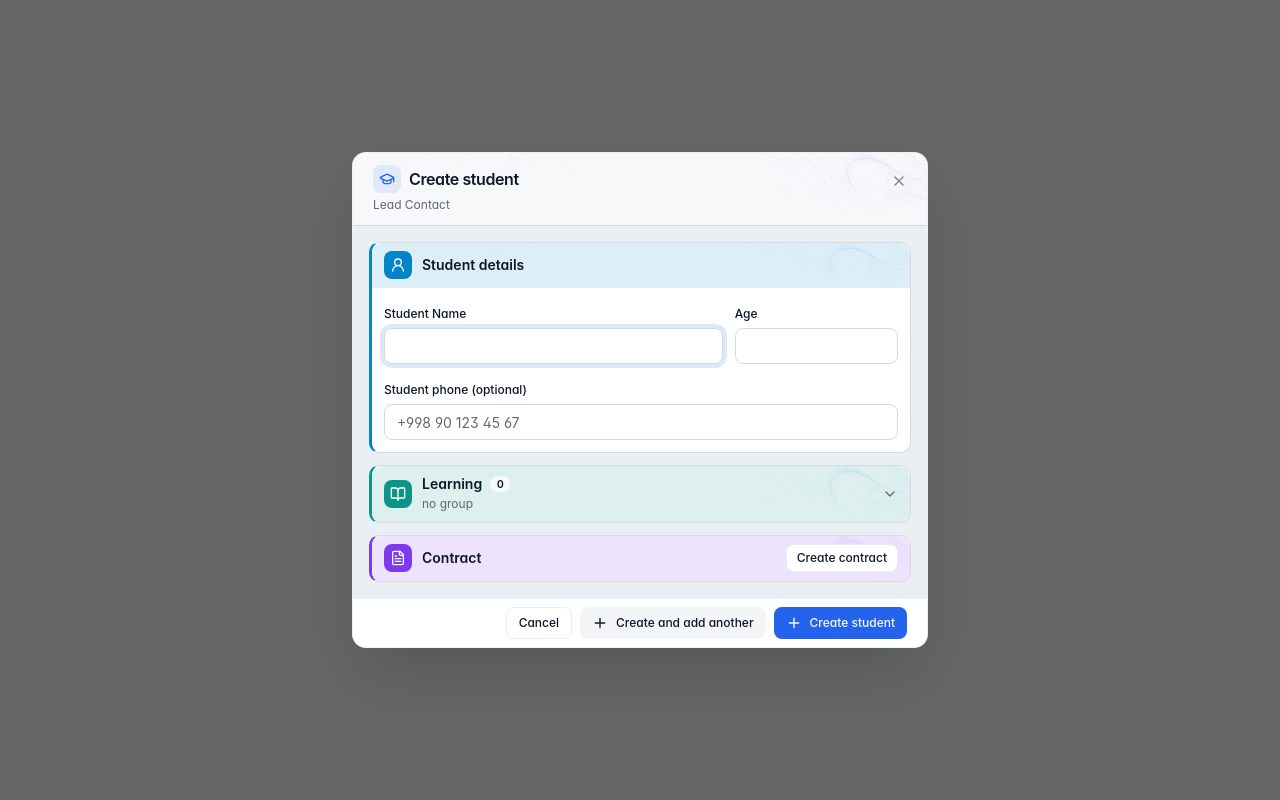
Test case: Lead conversion learner and portal access choices › reveals and focuses an invalid payment in a folded enrollment section
Step 1. Type "Learner" into the field labelled "Student Name" → (553, 346), box [384,328,723,364]
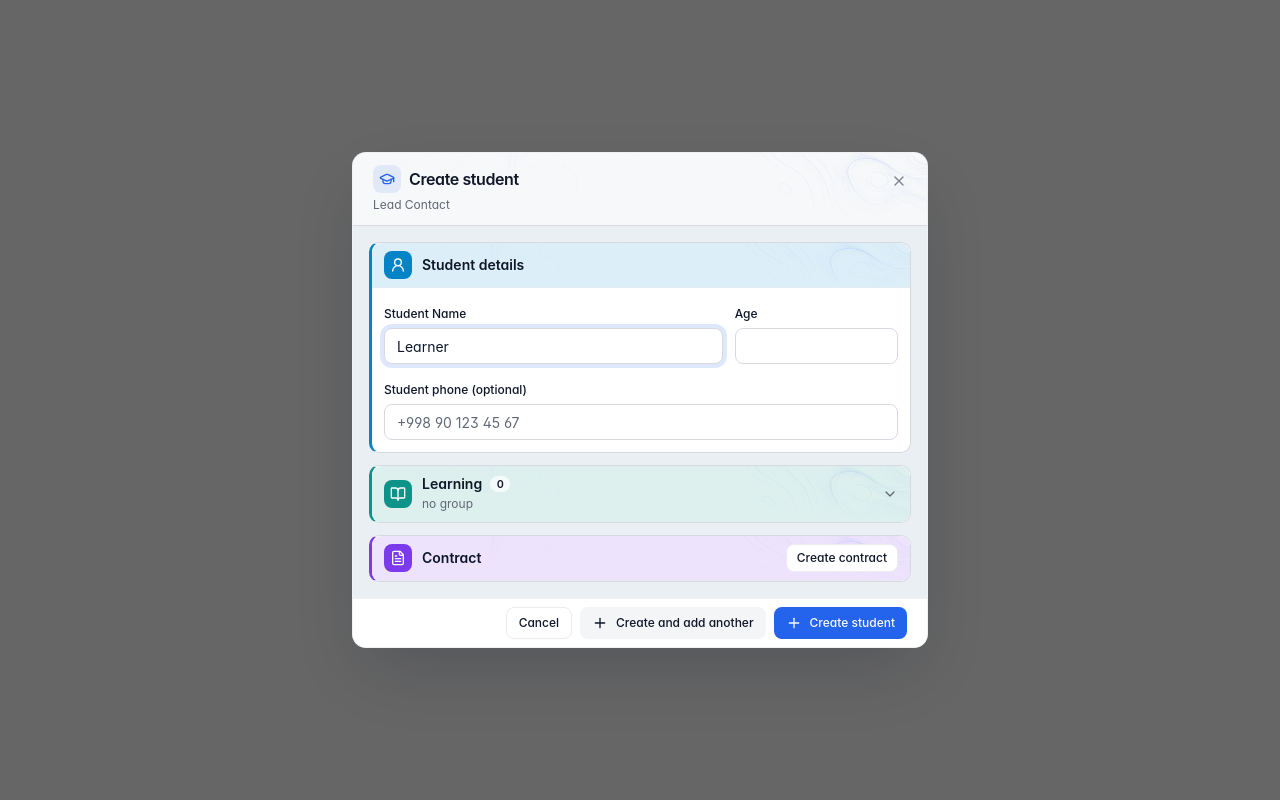
Step 2. Click the button "Learning 0 no group" → (452, 484), box [372,466,910,522]
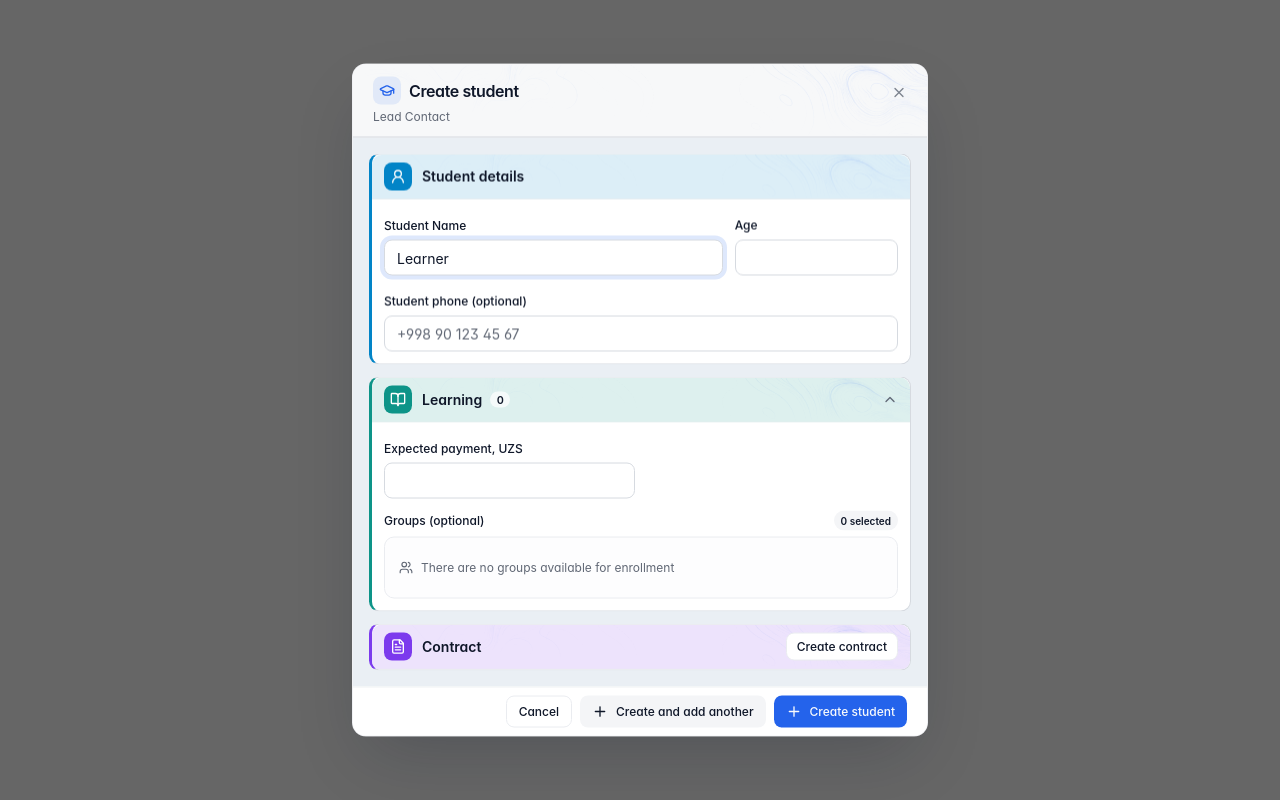
Step 3. Type "999999999999" into the field labelled "Expected payment, UZS" → (510, 480), box [384,462,635,498]
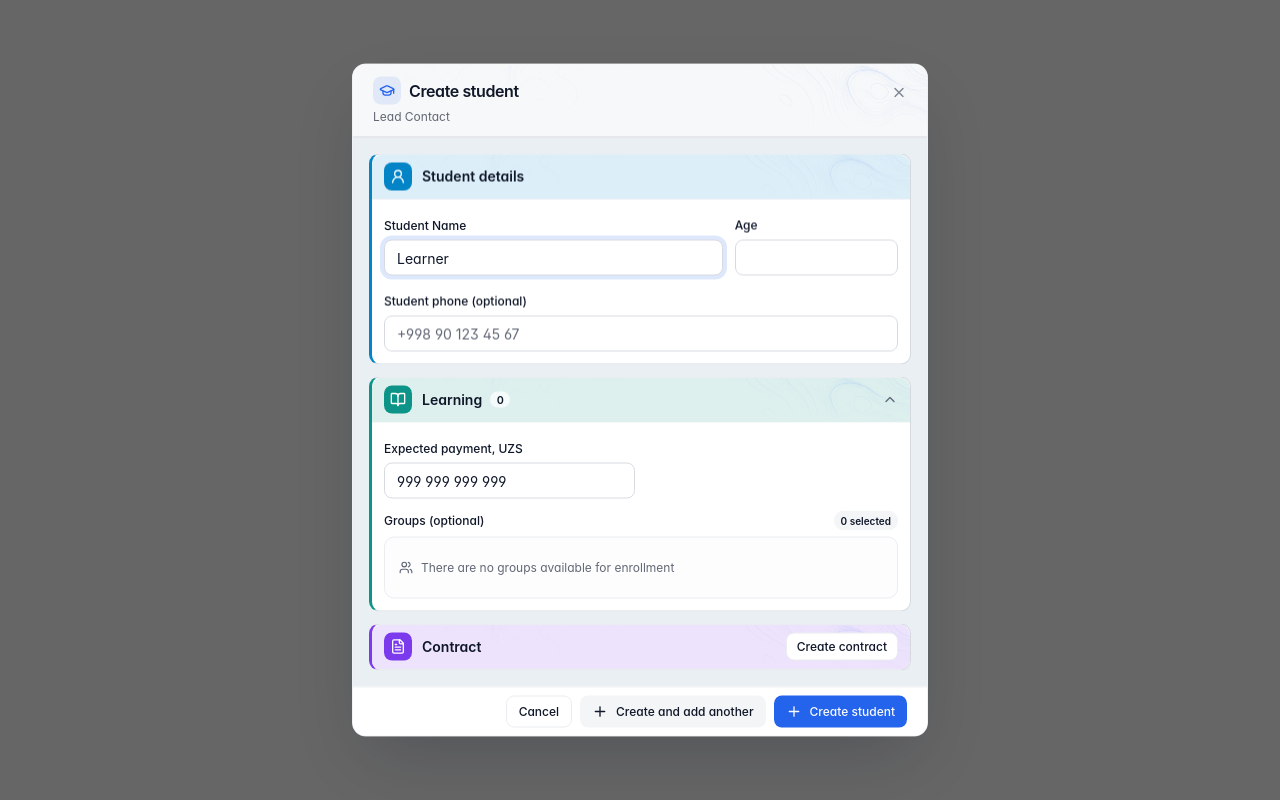
Step 4. Click the button "Learning 0" → (452, 399), box [372,378,910,422]
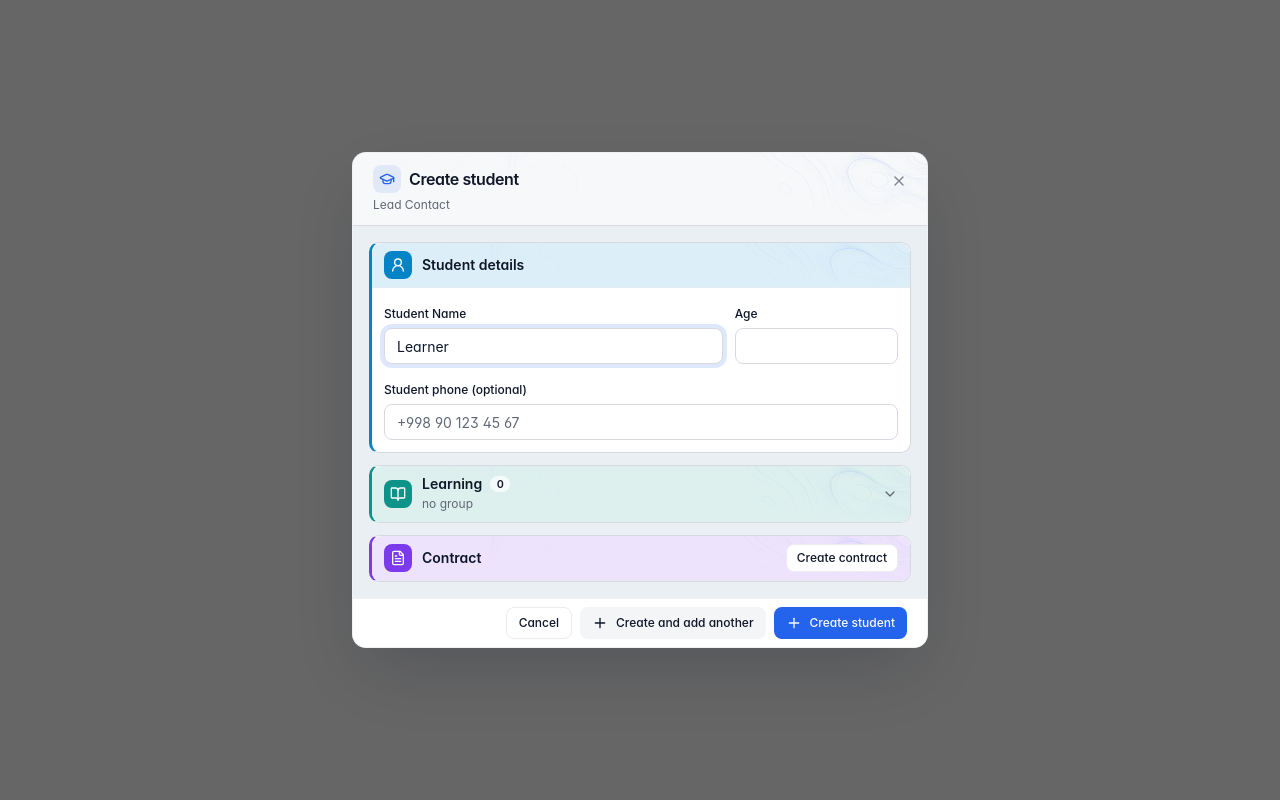
Step 5. Click the button "Create student" → (840, 623), box [774,607,907,639]
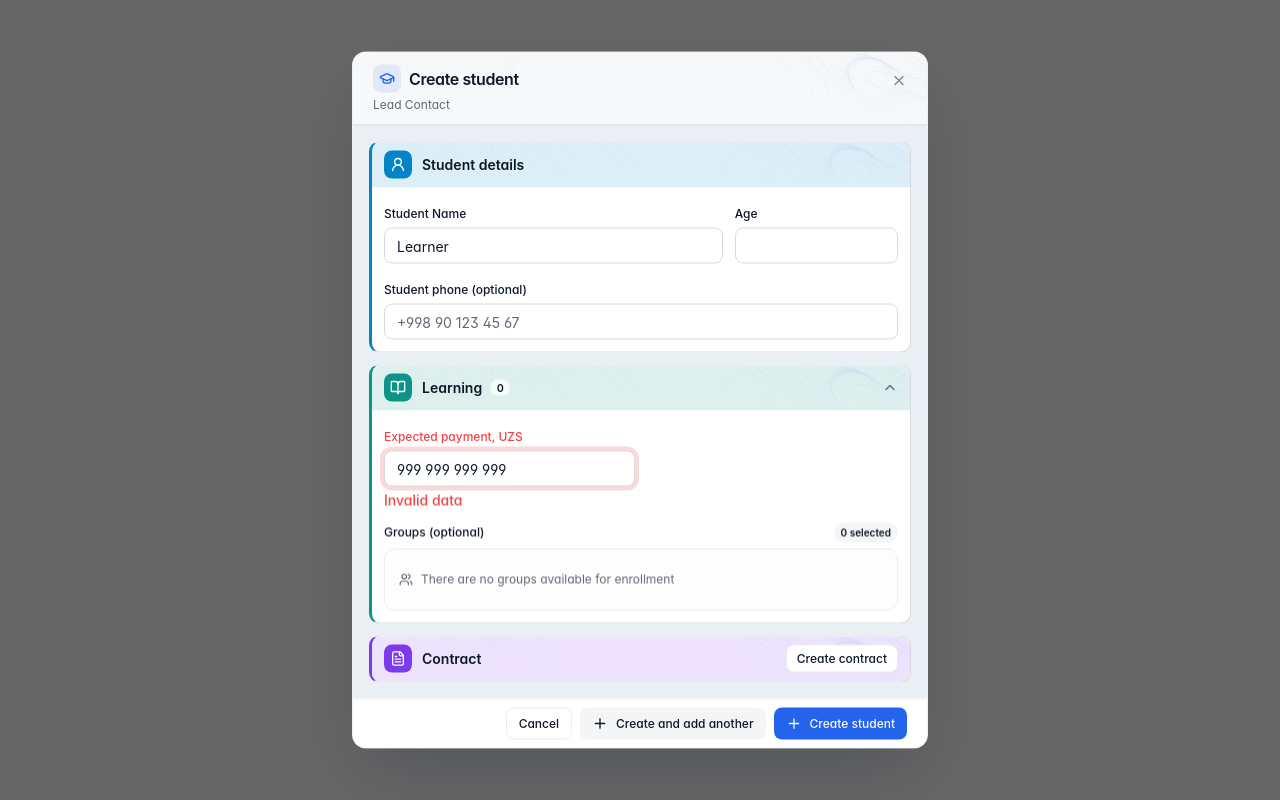
Check: the button "Learning 0" is expanded, box [372,366,910,410]
